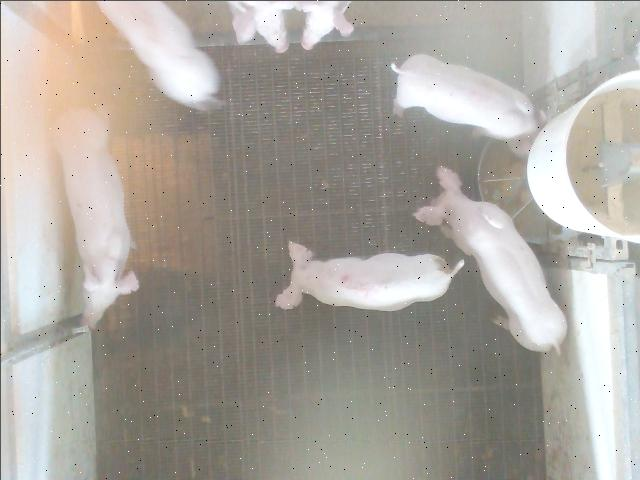pig-4: (390, 54, 539, 154)
pig-5: (275, 242, 462, 310)
